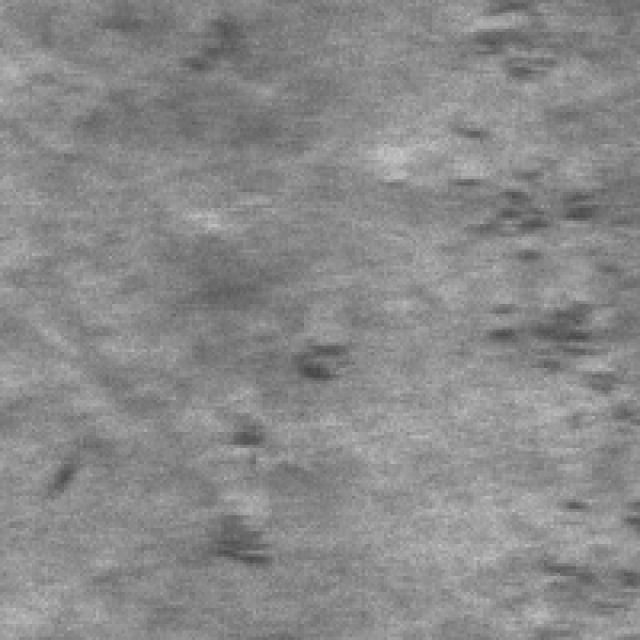rolled-in_scale: (438, 19, 628, 624), (176, 330, 339, 563), (461, 0, 582, 96)
